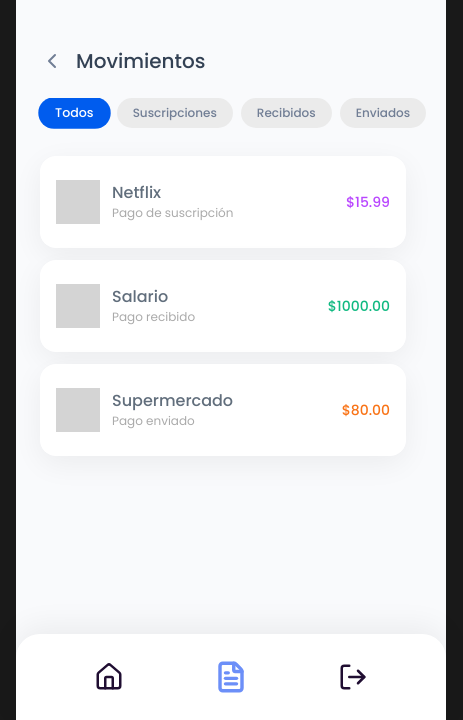
Scenario: MovementsPage › filters by CASH_OUT
Click the button "Enviados".
click(383, 113)  # box [340,98,426,128]
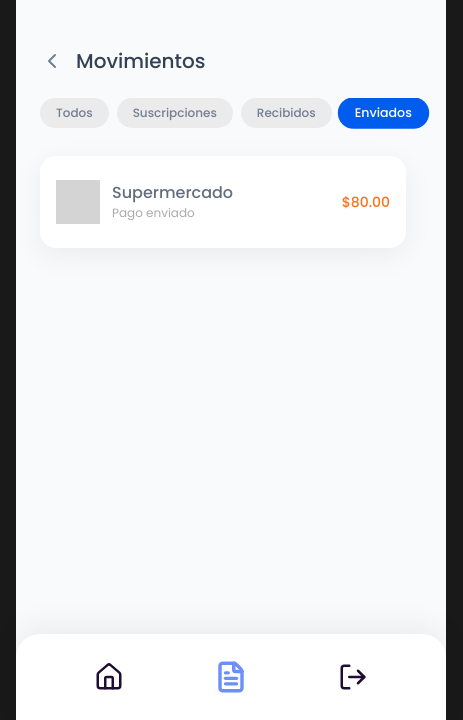
Expected: the text "Supermercado" is shown, [112,181,233,204]
Result: the text "Netflix" is gone
